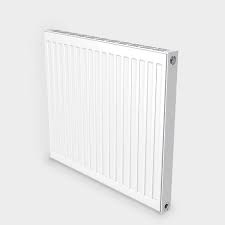Radiator: (43, 26, 178, 215)
